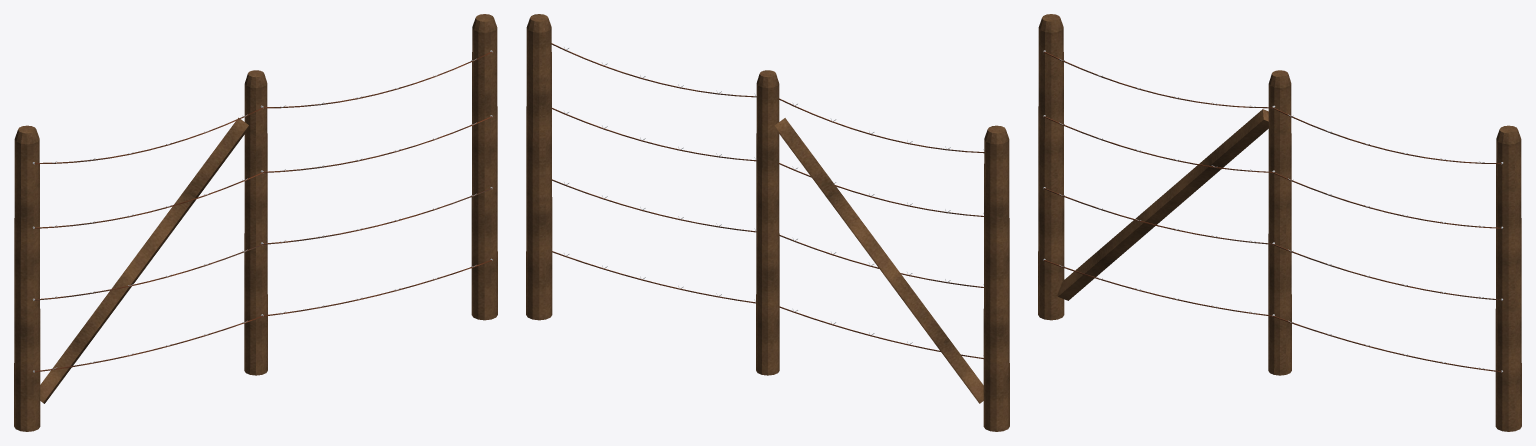
Rendered from cerca_arame.glb.
3 views of the same model, side by side, from view 1: azimuth 30°, elevation 25°; view 2: azimuth 150°, elevation 25°; view 3: azimuth 330°, elevation 25° (orthographic).
Parts seen in each view (by area): view 1: cerca_arame_madeira_lenha, cerca_arame_ferrugem; view 2: cerca_arame_madeira_lenha, cerca_arame_ferrugem; view 3: cerca_arame_madeira_lenha, cerca_arame_ferrugem.
Part boxes in pixels (x1,y1,x2,y2): cerca_arame_madeira_lenha: (14,14,497,431); cerca_arame_ferrugem: (34,51,492,372); cerca_arame_madeira_lenha: (526,14,1009,431); cerca_arame_ferrugem: (551,43,984,358); cerca_arame_madeira_lenha: (1038,14,1521,431); cerca_arame_ferrugem: (1043,51,1501,372).
Size of the model in its own units: 2.1 by 1.24 by 0.114.
3 materials, 2 textured.
